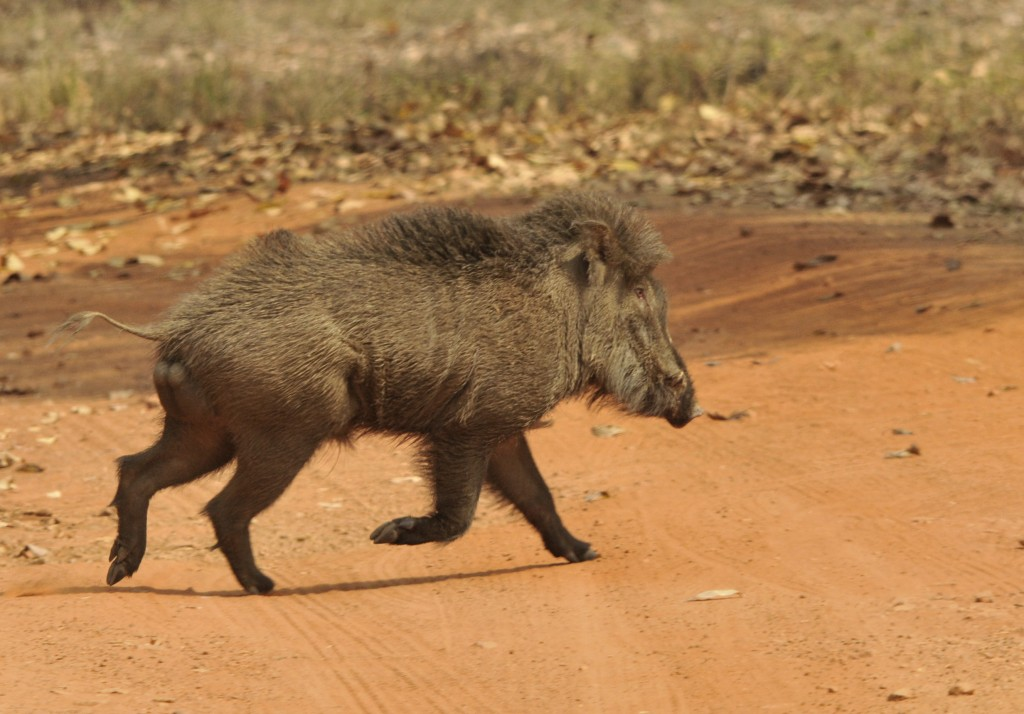wild boar: (47, 184, 717, 597)
